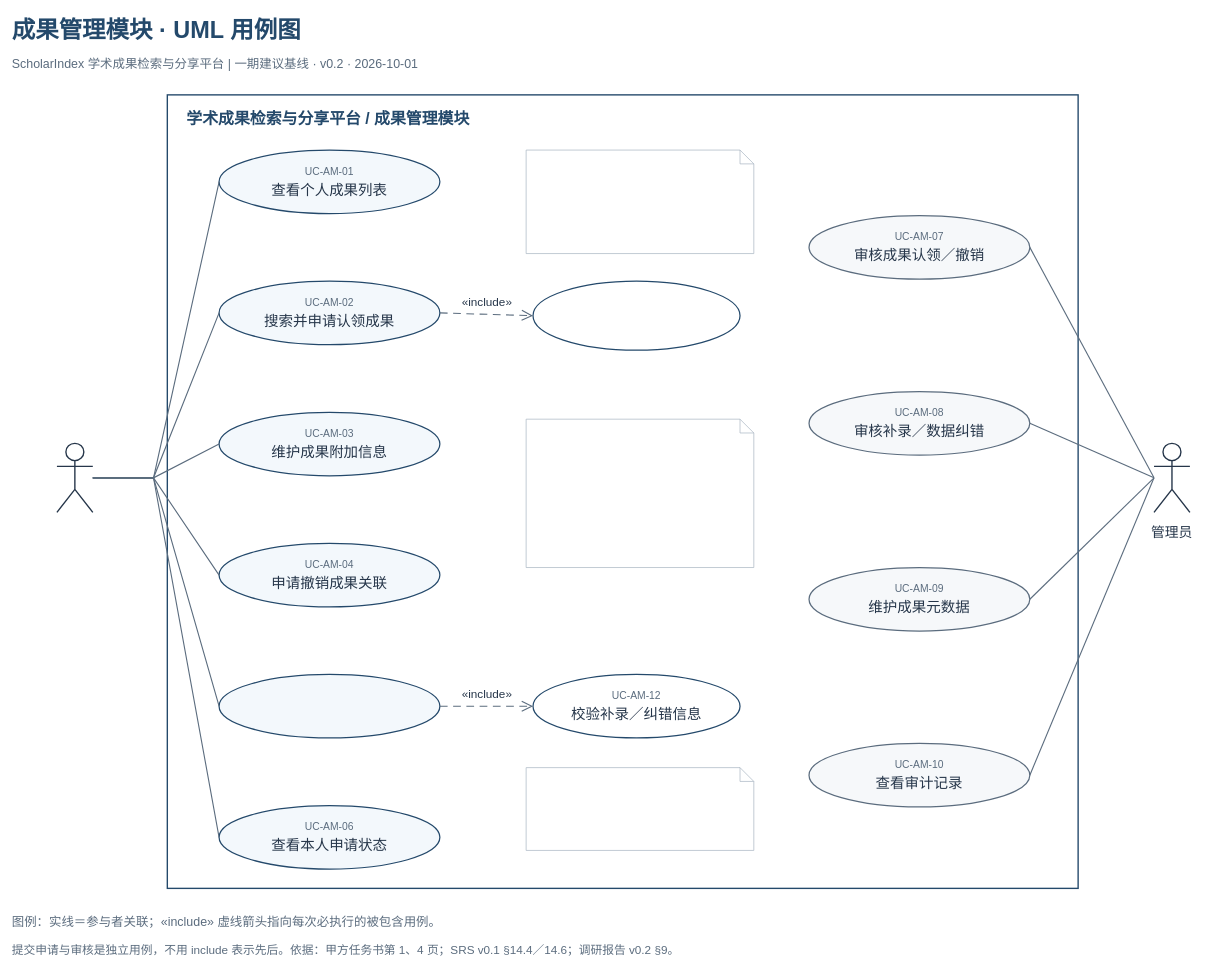
The diagram is 1224 pixels wide and 974 high, and some of its shapes have lost their labels. The centre of each missing label's shape, as x and y in pixels:
"UC-AM-05 提交补录／数据纠错申请" goes at point (329, 706).
"UC-AM-11 校验认领资格 与重复申请" goes at point (636, 315).
"已认领门户 科研人员" goes at point (74, 477).
"模块范围 统一管理论文、专利、项目、获奖。 门户认领与身份认证是前置业务， 在门户／认证模块另行展开。" goes at point (639, 201).
"管理规则 科研人员仅改本人平台附加信息。 元数据纠错与补录需管理员审核。 撤销个人关联不删除共享成果。 重要变更留审计，关联统计待刷新。" goes at point (639, 493).
"跨模块协作 缺失论文转交采集模块补采。 审核通过与采集完成是不同状态。" goes at point (639, 808).
